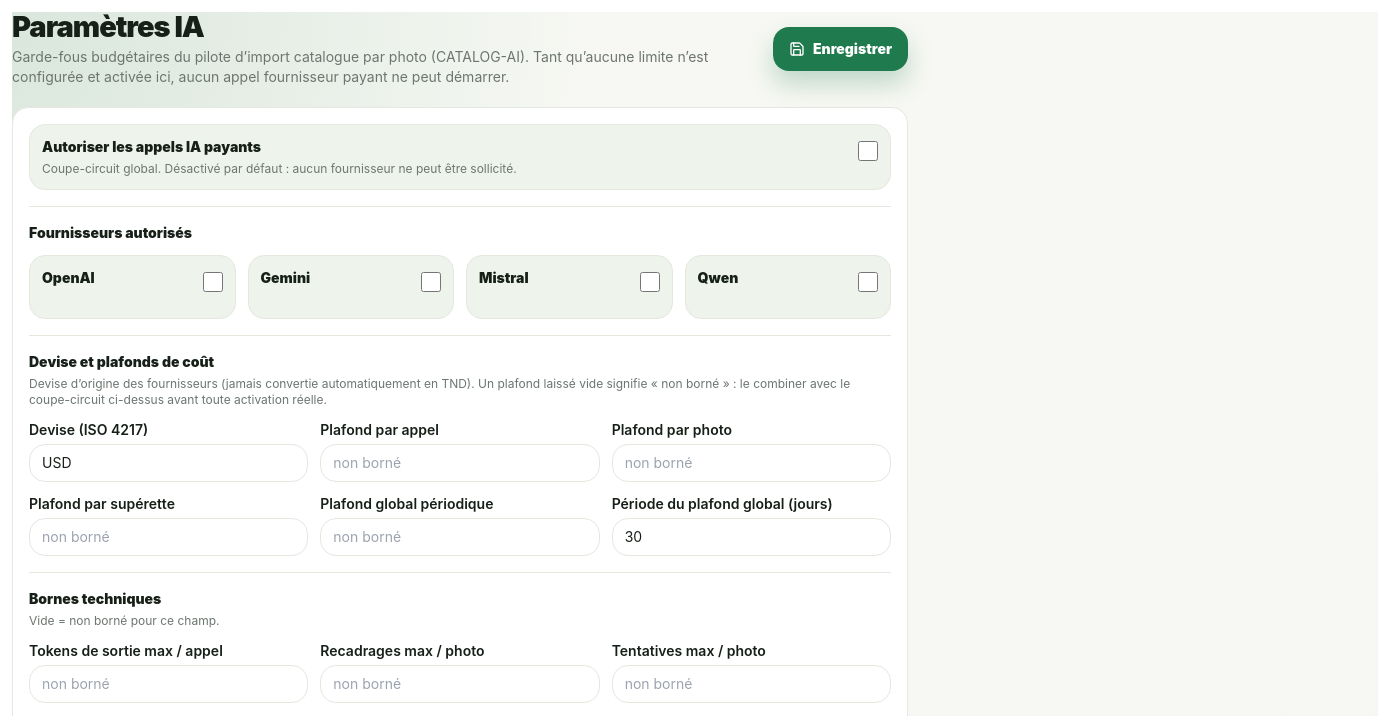
Test case: AdminAiBudgetPolicyPage › active le coupe-circuit, configure un plafond et sauvegarde
The image size is (1378, 716).
Click the checkbox labelled "Autoriser les appels IA payants": coordinates (868, 151) [858,141,878,161]
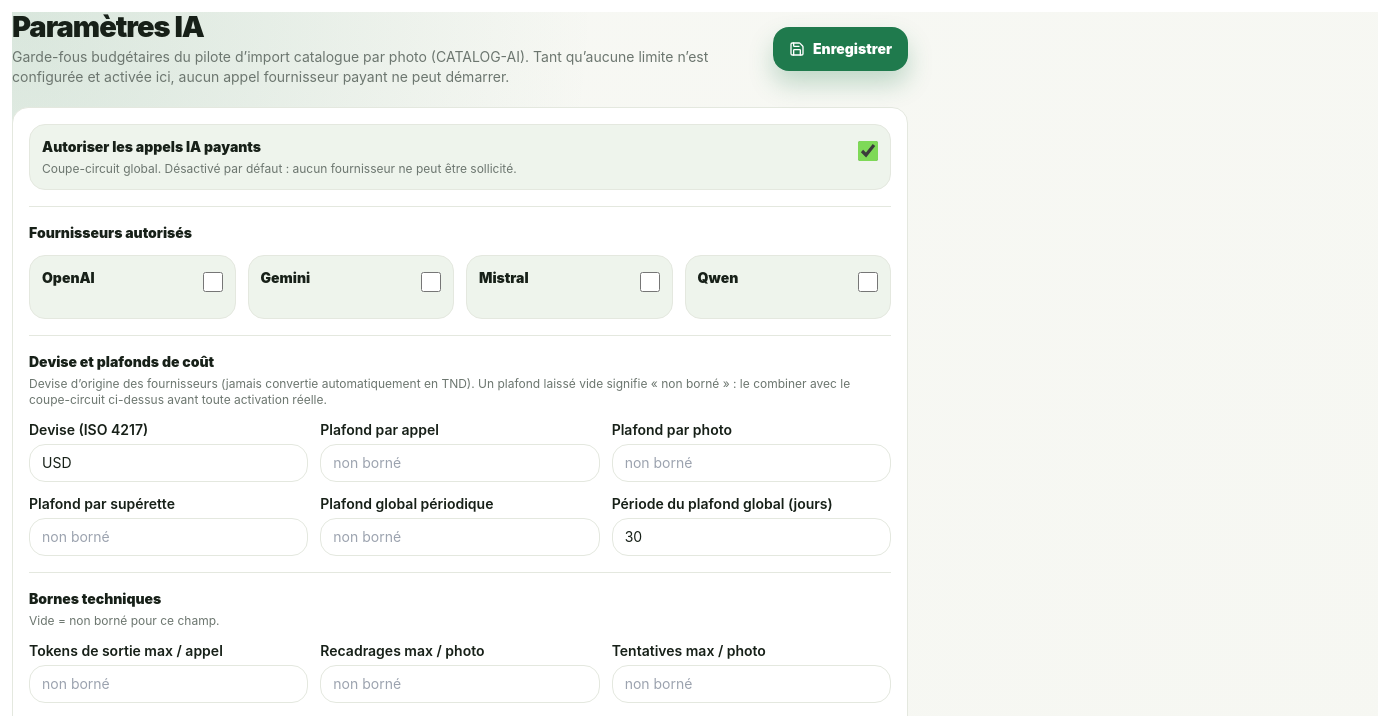
Click the checkbox labelled "OpenAI": coordinates (212, 282) [202,272,222,292]
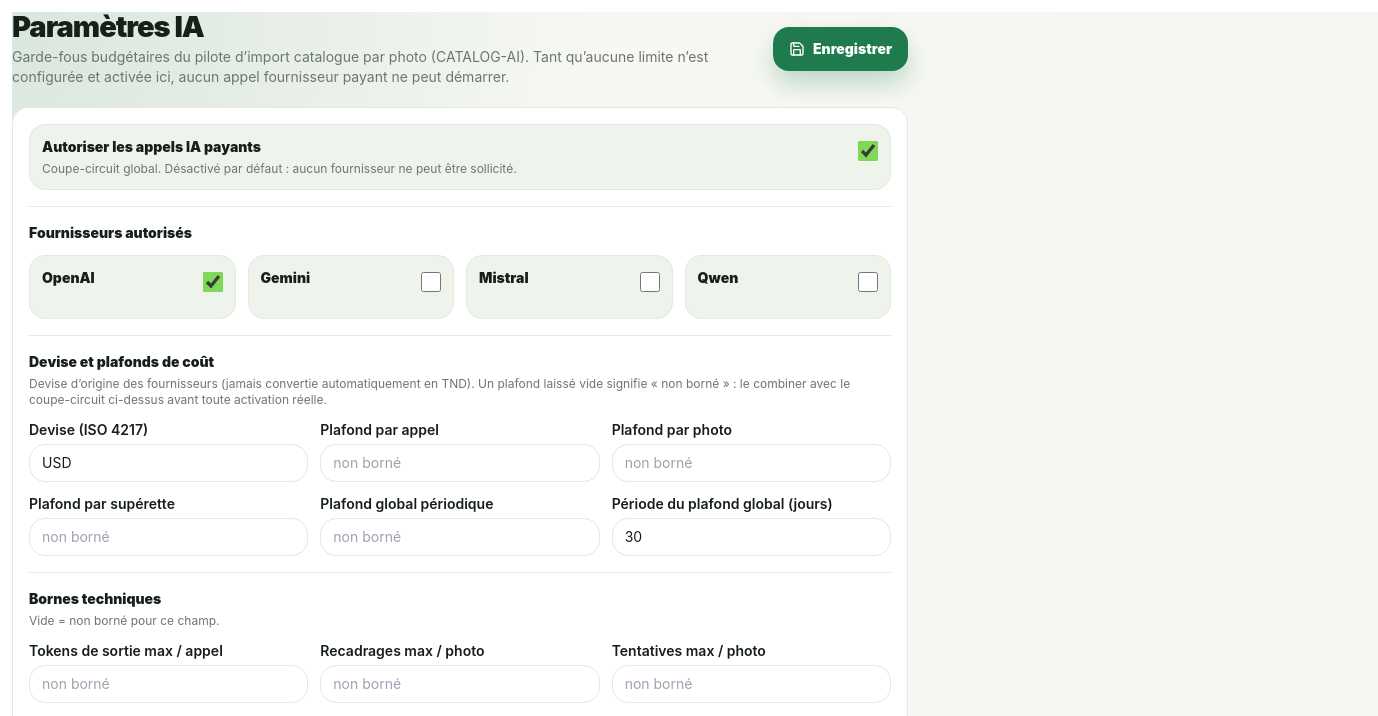
In the field labelled "Plafond par appel": coordinates (460, 463) [320,444,600,482], type "0.05"
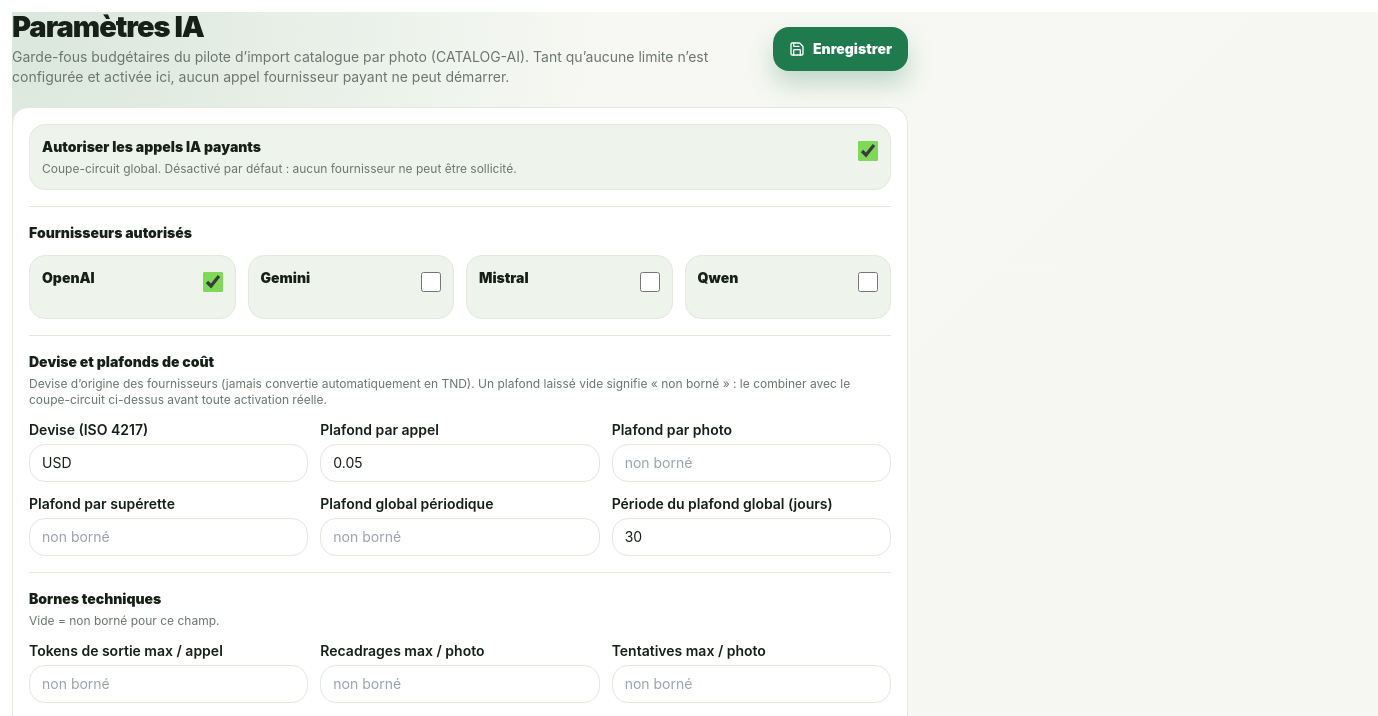
Click the button "Enregistrer": coordinates (840, 49) [773,27,908,71]
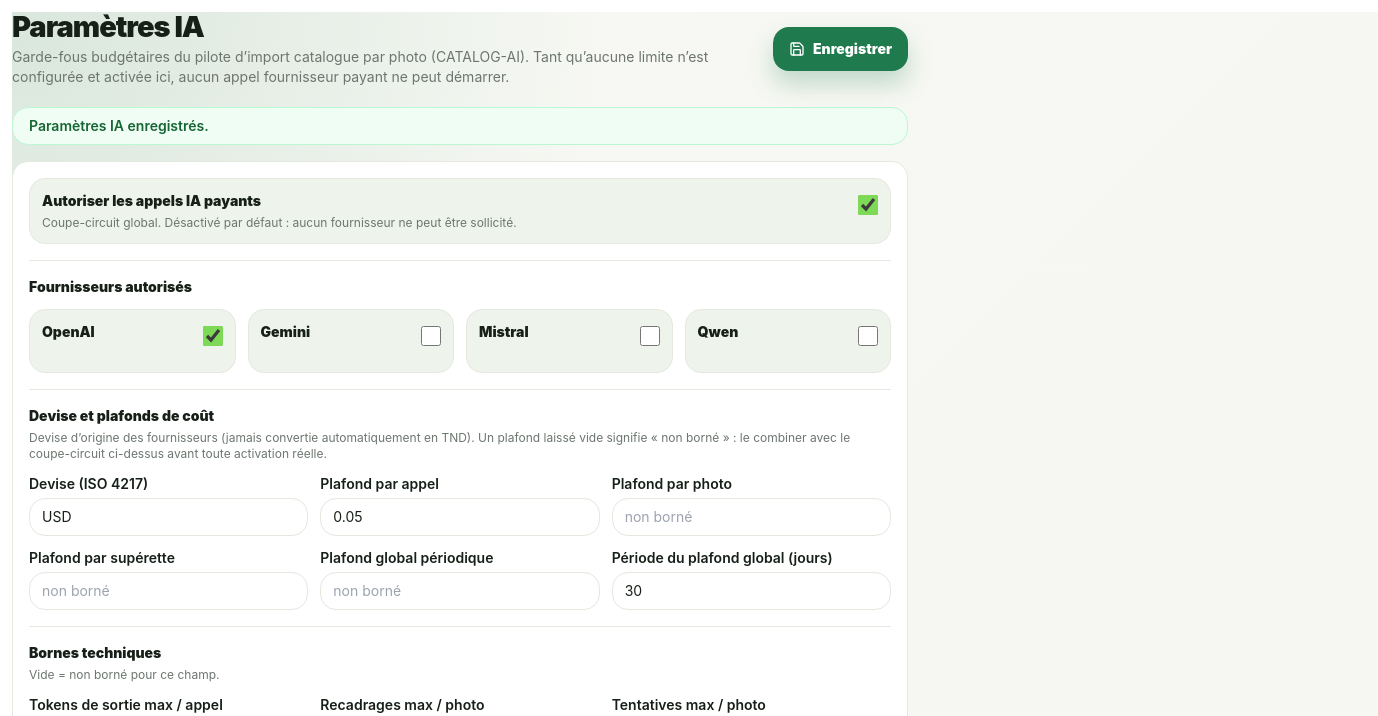
Check: the text "Paramètres IA enregistrés." is shown, box [12,107,908,145]
